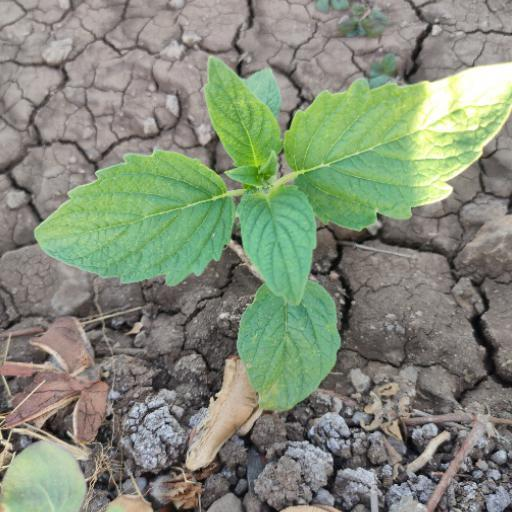crop: (30, 43, 512, 405)
